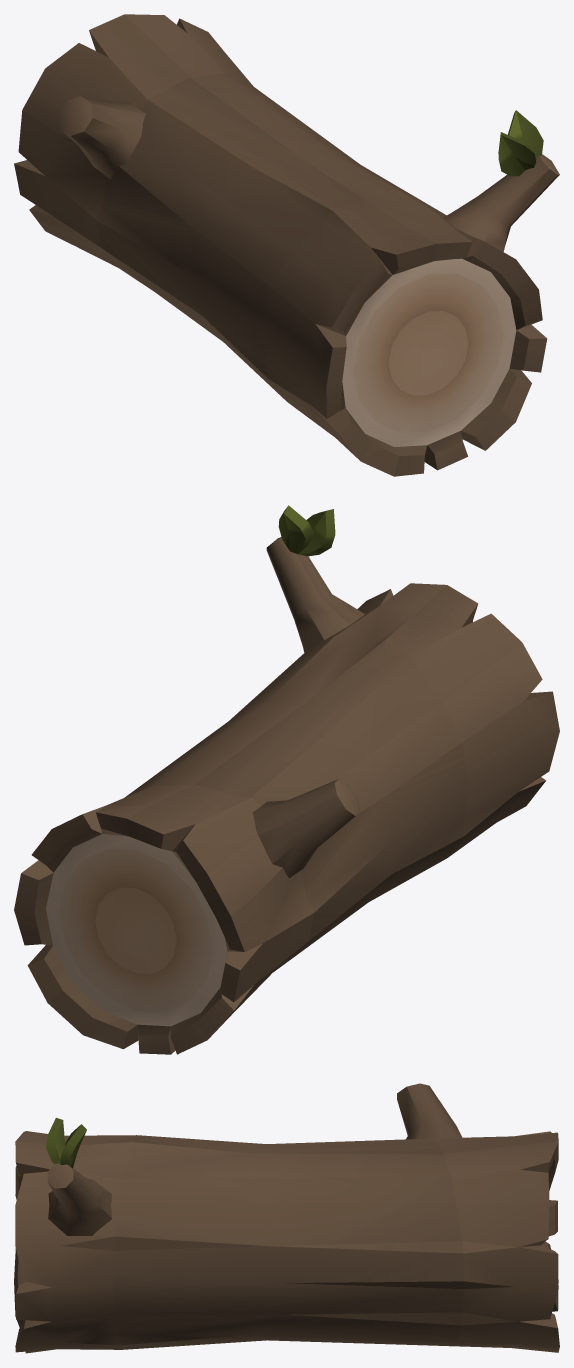
The model's file is Wood_Log_A.fbx.
3 views of the same model, one above another, from view 1: azimuth 30°, elevation 25°; view 2: azimuth 150°, elevation 25°; view 3: azimuth 270°, elevation 25° (orthographic). The views are drawn at different scales.
Visible parts, largest first — view 1: Wood_Log_A; view 2: Wood_Log_A; view 3: Wood_Log_A.
Boxes of the visible parts, left/top/right/bottom form: Wood_Log_A: left=14, top=14, right=559, bottom=476; Wood_Log_A: left=14, top=505, right=559, bottom=1054; Wood_Log_A: left=14, top=1083, right=559, bottom=1353.
Size of the model in its own units: 72.14 by 73.34 by 135.
